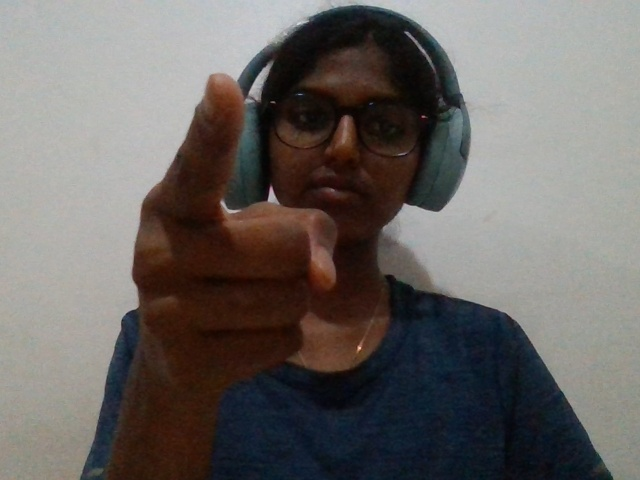You: (75, 48, 338, 427)
